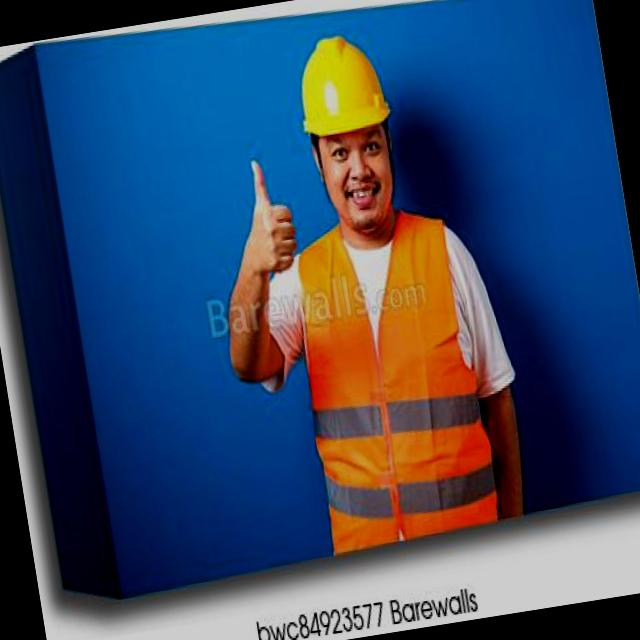helmet: (285, 24, 396, 148)
no-goggles: (306, 125, 402, 168)
vest: (283, 200, 504, 556)
